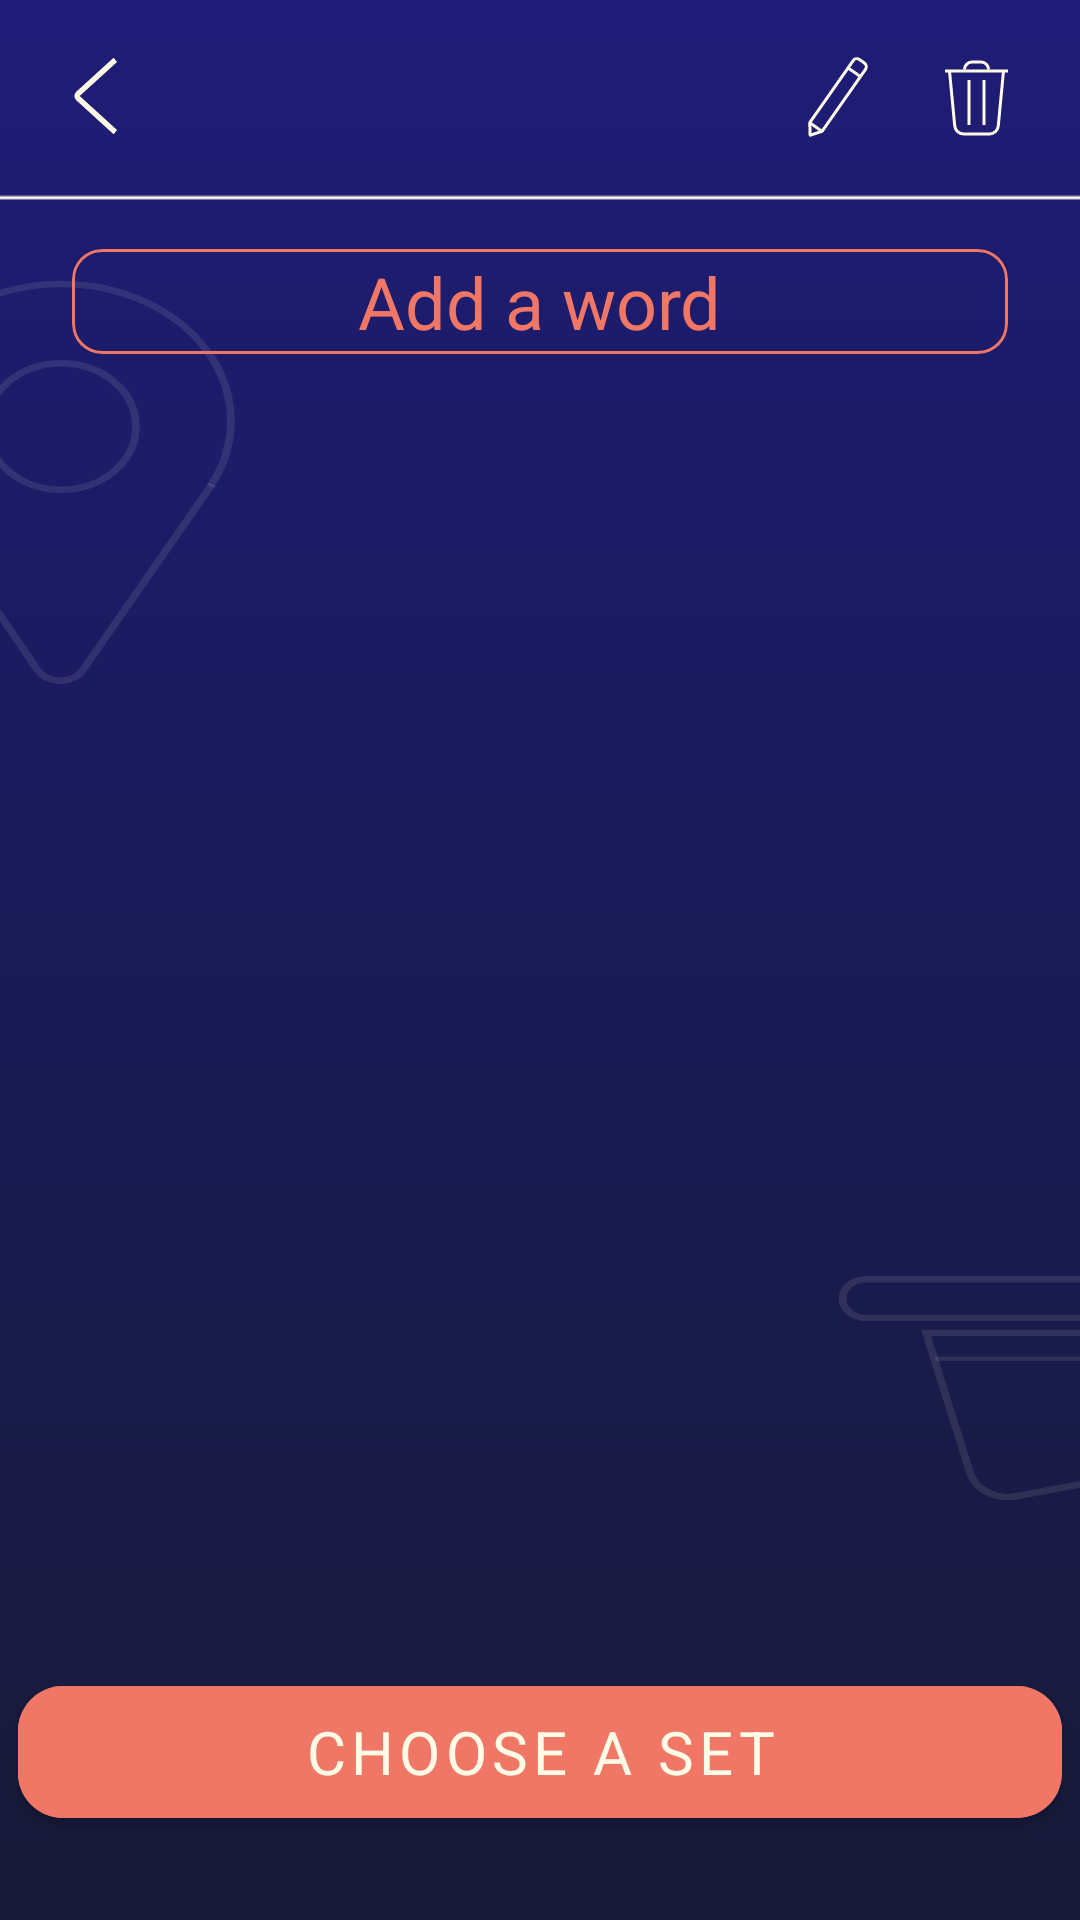

Icon bounding boxes for this 1080×1920 phone screenshot, format (left=x1, top=y1, right=x2, bottom=y2):
back: (left=74, top=58, right=117, bottom=134)
garbage: (left=945, top=60, right=1008, bottom=136)
pen: (left=808, top=57, right=868, bottom=137)
